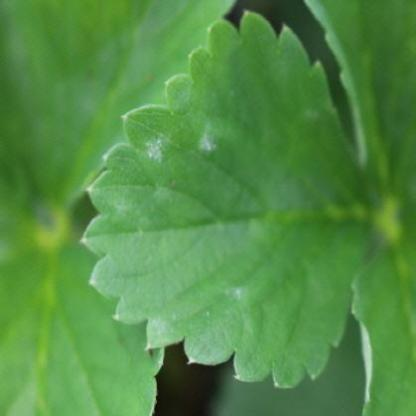Strawberry_Powdery_Mildew_Leaf: (80, 8, 374, 390)
